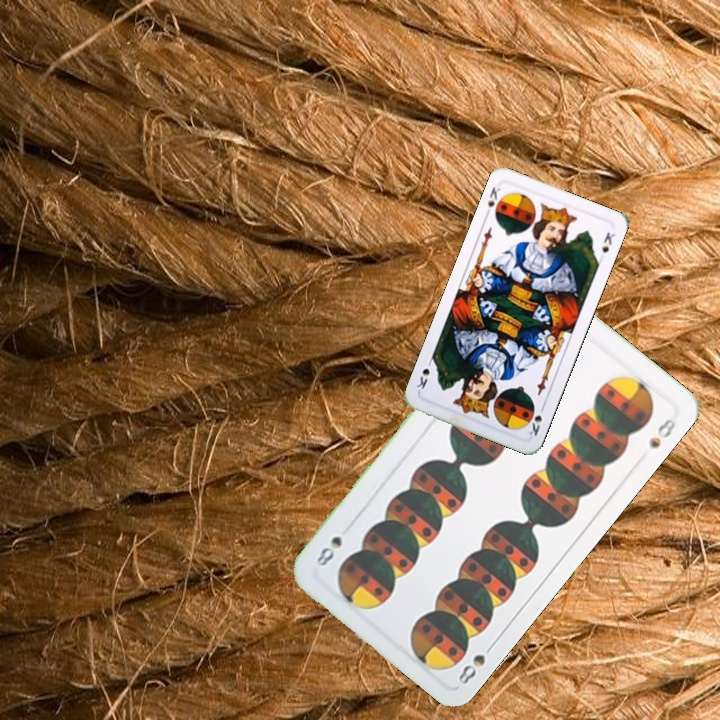S8: (454, 638, 498, 687)
SK: (525, 400, 547, 439), (481, 182, 503, 219)
